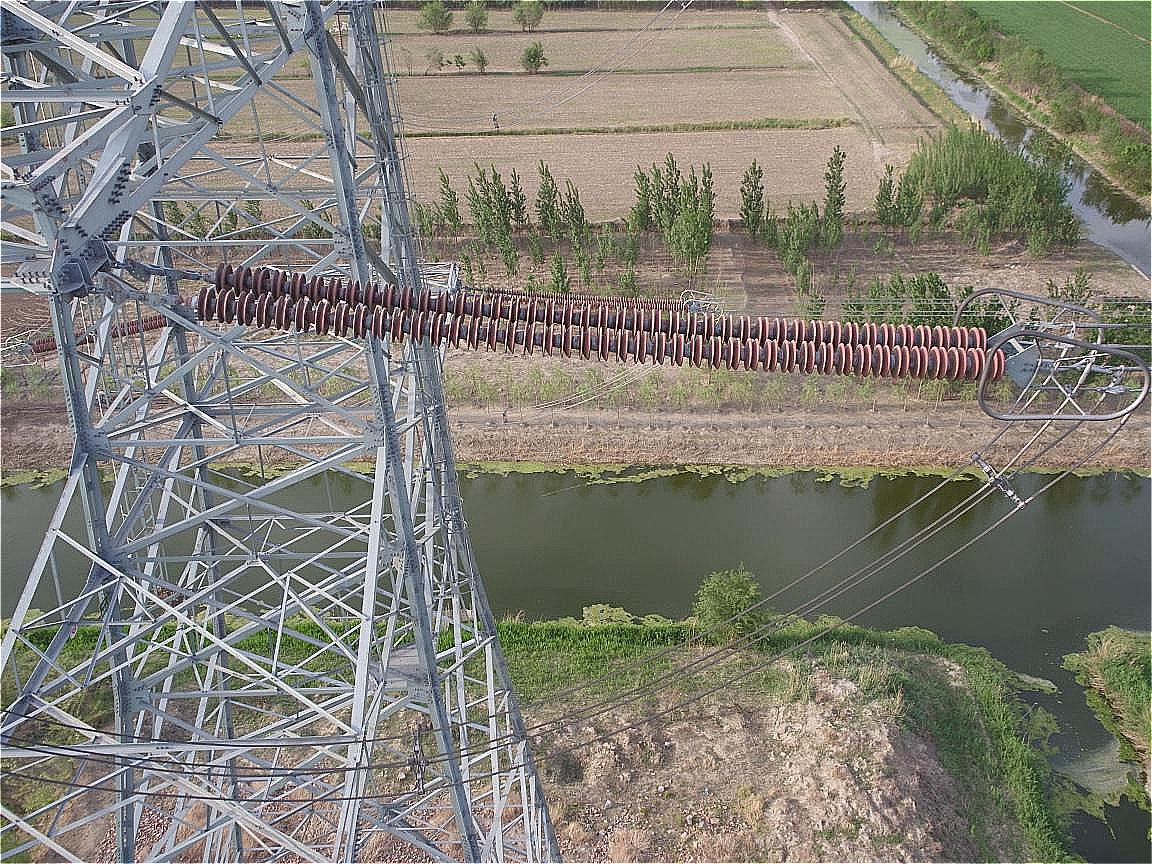insultor2: (173, 255, 1014, 389)
